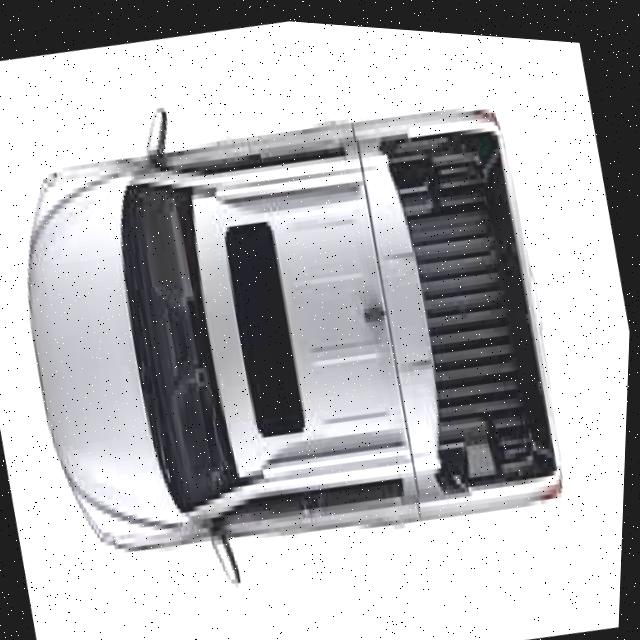truck: (0, 66, 585, 593)
